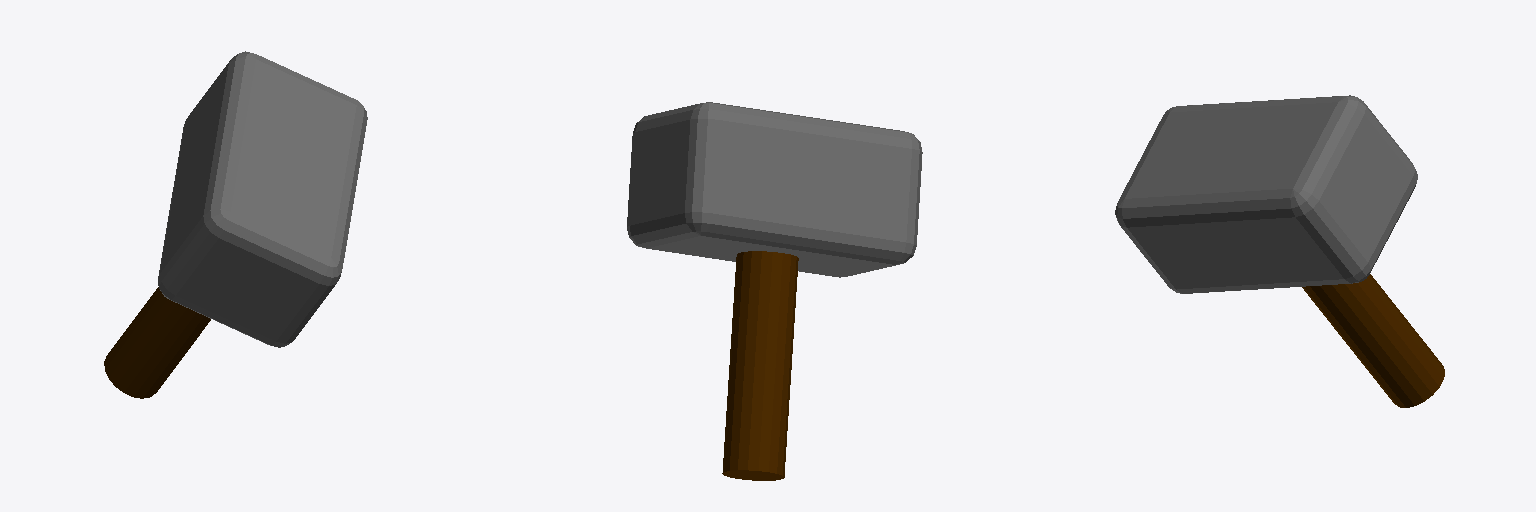
The model's file is Hammer.obj.
3 renders of one model, left to right at view 1: azimuth 30°, elevation 25°; view 2: azimuth 150°, elevation 25°; view 3: azimuth 270°, elevation 25°, orthographic.
Parts seen in each view (by area): view 1: ChamferBox001, Cylinder001; view 2: ChamferBox001, Cylinder001; view 3: ChamferBox001, Cylinder001.
Part boxes in pixels (x1,y1,x2,y2): ChamferBox001: (158,51,367,347); Cylinder001: (104,287,210,398); ChamferBox001: (627,102,922,277); Cylinder001: (722,251,798,480); ChamferBox001: (1115,95,1417,293); Cylinder001: (1302,274,1444,407).
Size of the model in its own units: 47.93 by 65.2 by 57.02.